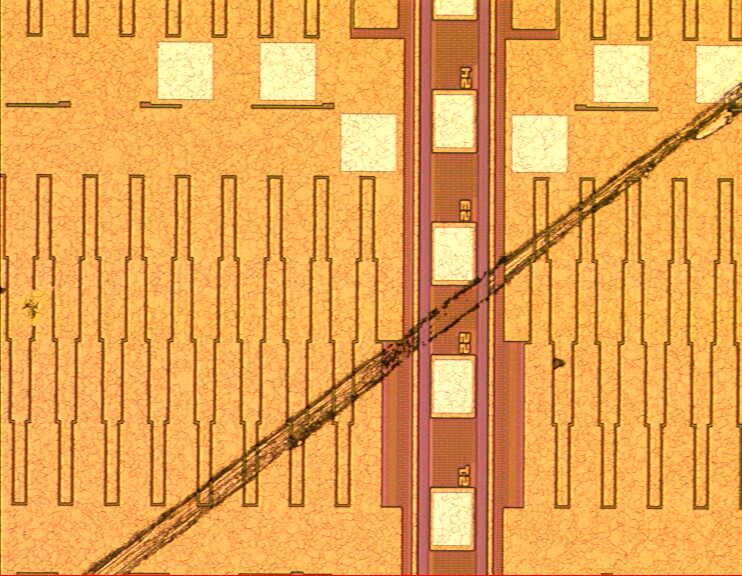SCRATCH: (82, 79, 742, 576)
